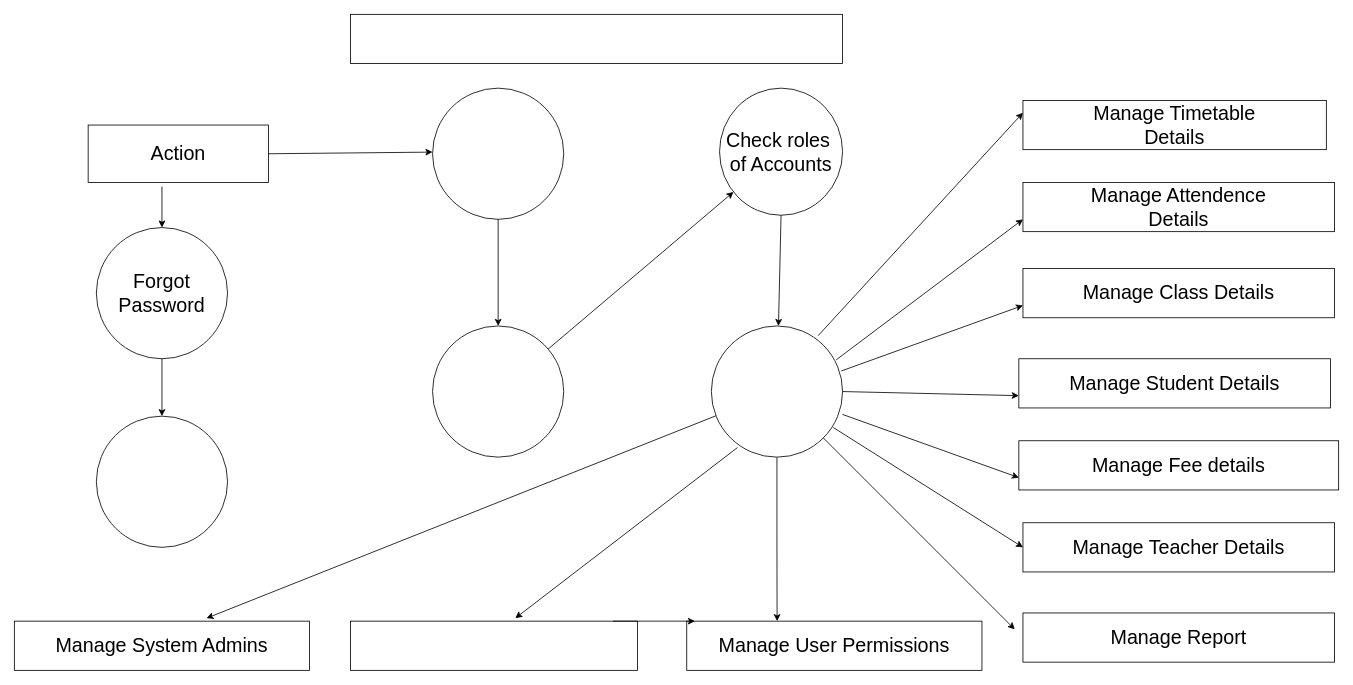
Image size: 1353x685. Some labels were removed from this diagram. The shapes that lost their labels are listed below. From the top down, each one's centre as x and y in pixels, then its label:
At point 596,39: "Student Information".
At point 498,153: "Login to System".
At point 498,391: "Check credentials".
At point 777,391: "Manage Modules".
At point 162,481: "Send Email to User".
At point 494,645: "Manage Roles of User".
